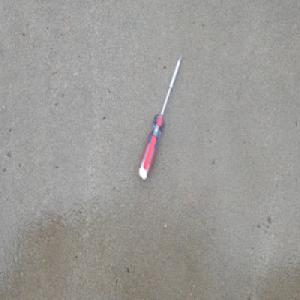Screwdriver: (136, 52, 183, 181)
